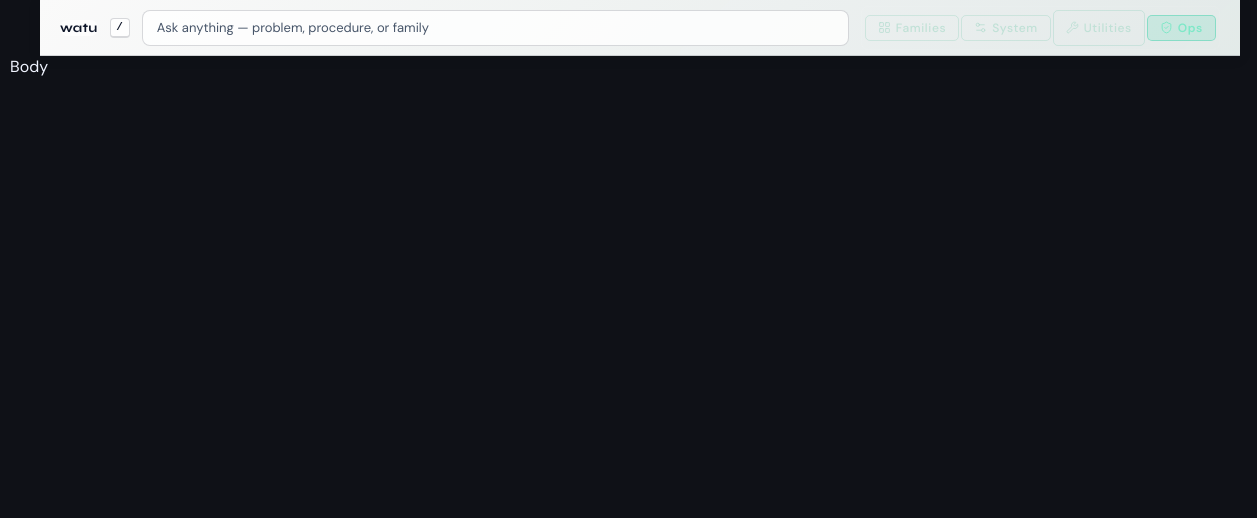
Test: TopCommandBar dropdown behavior › frames families as an operational router before flow selection
The image size is (1257, 518).
Click the button "Families": (912, 28) 865,14 -> 959,40
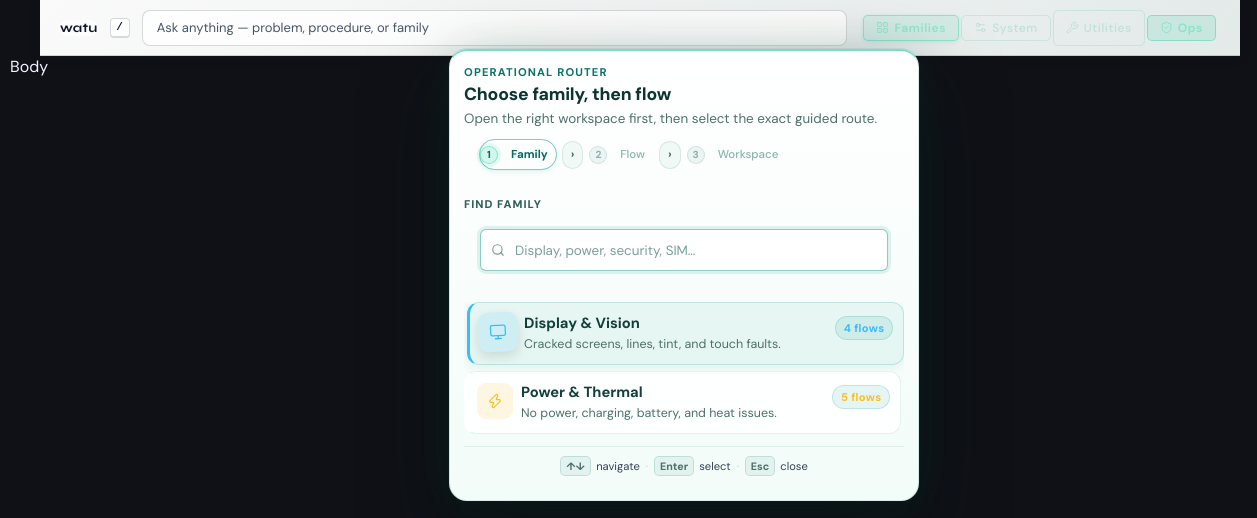
Expected: the element named "family operational router" is shown, 449,49 -> 919,501
Expected: the text "Choose family, then flow" is shown, 464,83 -> 671,105
Expected: the text "Family" is shown, 511,148 -> 548,162
